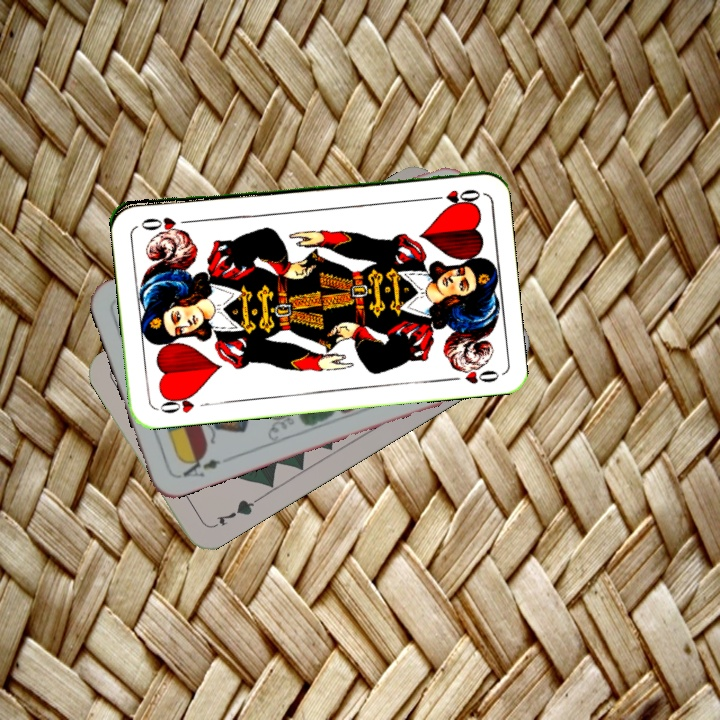EA: (178, 450, 223, 480)
G7: (206, 495, 260, 531)
HO: (153, 389, 213, 416), (424, 185, 483, 204)
